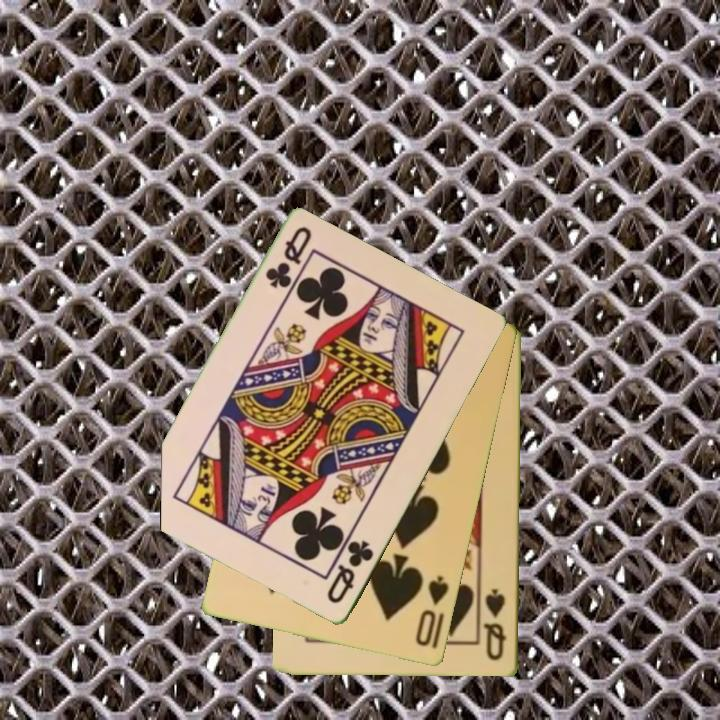10s: (412, 572, 452, 652)
Qc: (323, 537, 377, 607), (262, 223, 315, 292)
Qs: (482, 585, 509, 664)
